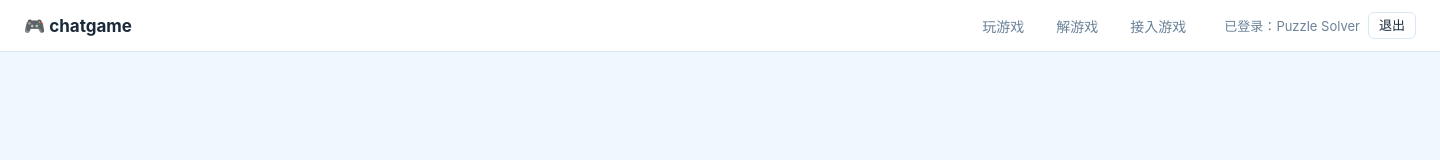
Test: NavBar › shows configured login entry and logs out with csrf
This screenshot has width=1440, height=160.
Expected: the text "已登录：Puzzle Solver" is shown, left=1224, top=16, right=1360, bottom=35
Click the button "退出".
click(1392, 26)  # box left=1368, top=12, right=1416, bottom=39
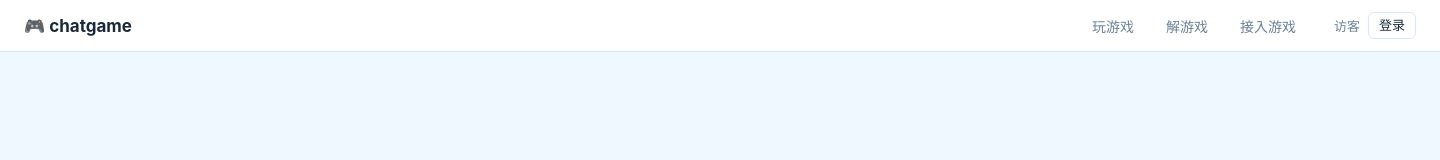
Result: the text "访客" is shown at left=1334, top=16, right=1360, bottom=35
